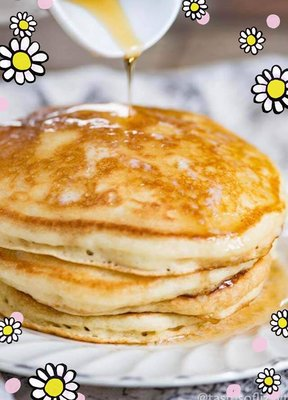soup: (0, 101, 285, 345)
